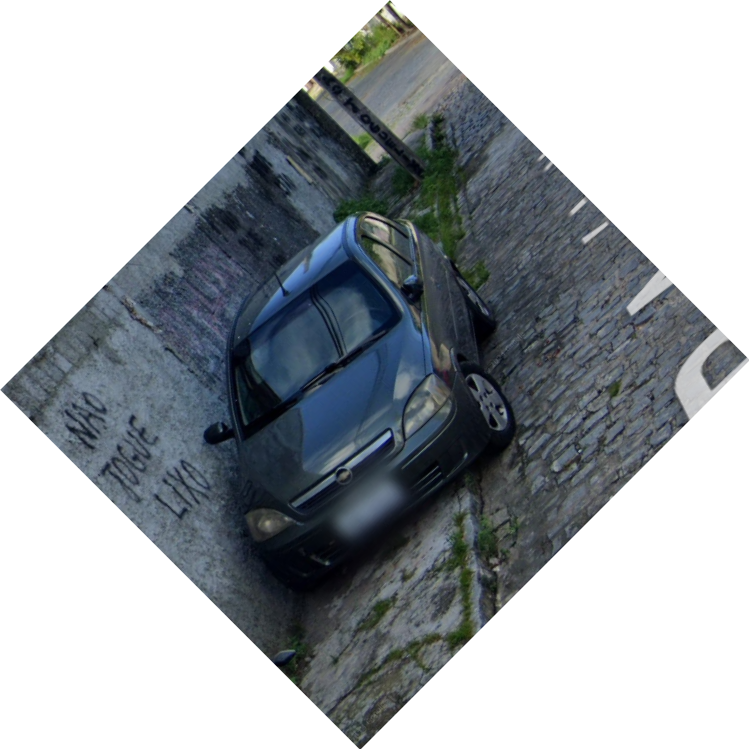car: (201, 208, 517, 591)
